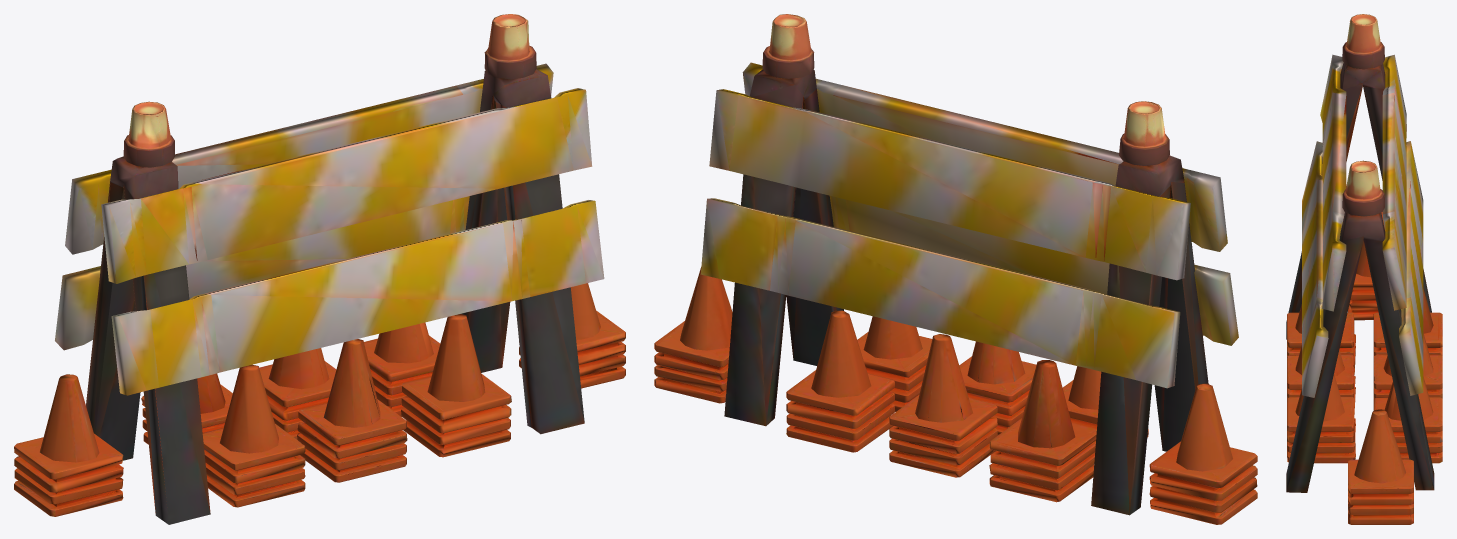
Rendered from roadblock.glb.
3 renders of one model, left to right at view 1: azimuth 30°, elevation 25°; view 2: azimuth 150°, elevation 25°; view 3: azimuth 270°, elevation 25°, orthographic. The views are drawn at different scales.
Visible parts, largest first — view 1: geometry_0; view 2: geometry_0; view 3: geometry_0.
Boxes of the visible parts, x1=… form: geometry_0: x1=14, y1=14, x2=625, y2=524; geometry_0: x1=654, y1=14, x2=1257, y2=524; geometry_0: x1=1286, y1=14, x2=1442, y2=524.
Size of the model in its own units: 0.9497 by 0.5933 by 0.2676.
Materials: 1 (1 with a texture image).
